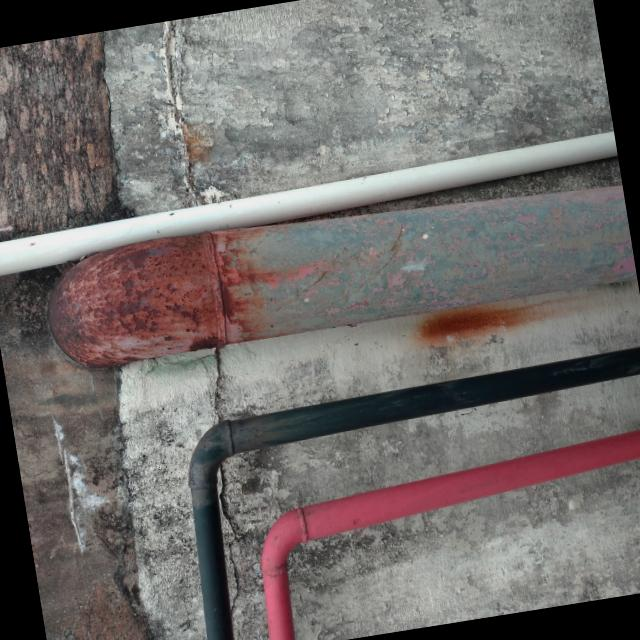gas: (190, 341, 640, 640), (50, 183, 637, 363), (0, 130, 618, 280), (263, 429, 640, 640)
